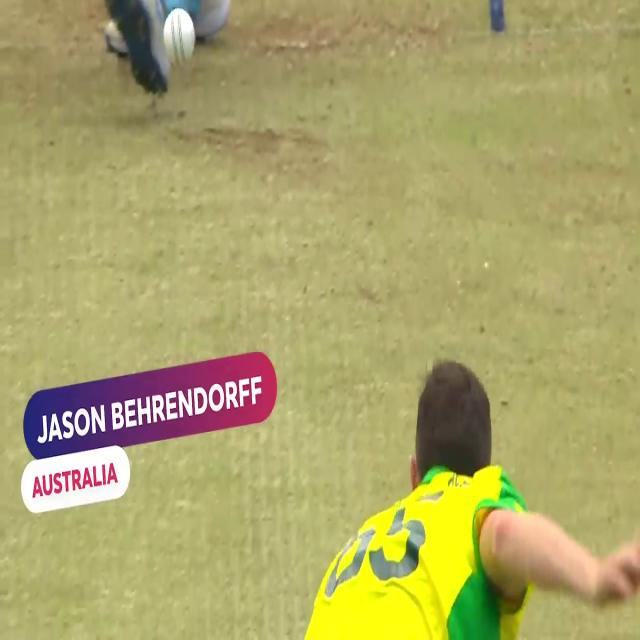ball: (158, 8, 200, 70)
